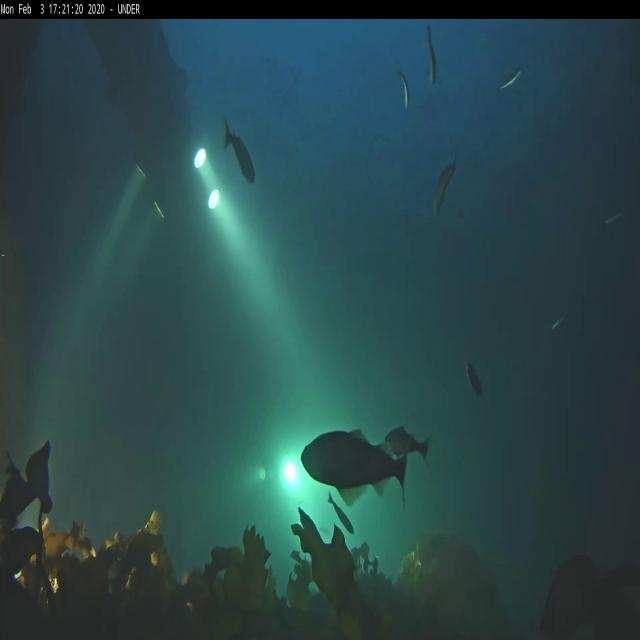fish: (303, 434, 407, 496), (224, 116, 258, 182), (387, 423, 434, 464), (326, 491, 356, 536), (434, 158, 457, 212), (424, 25, 437, 90), (465, 362, 485, 402), (499, 64, 524, 94), (604, 207, 630, 229), (396, 70, 409, 109), (549, 308, 569, 332)
